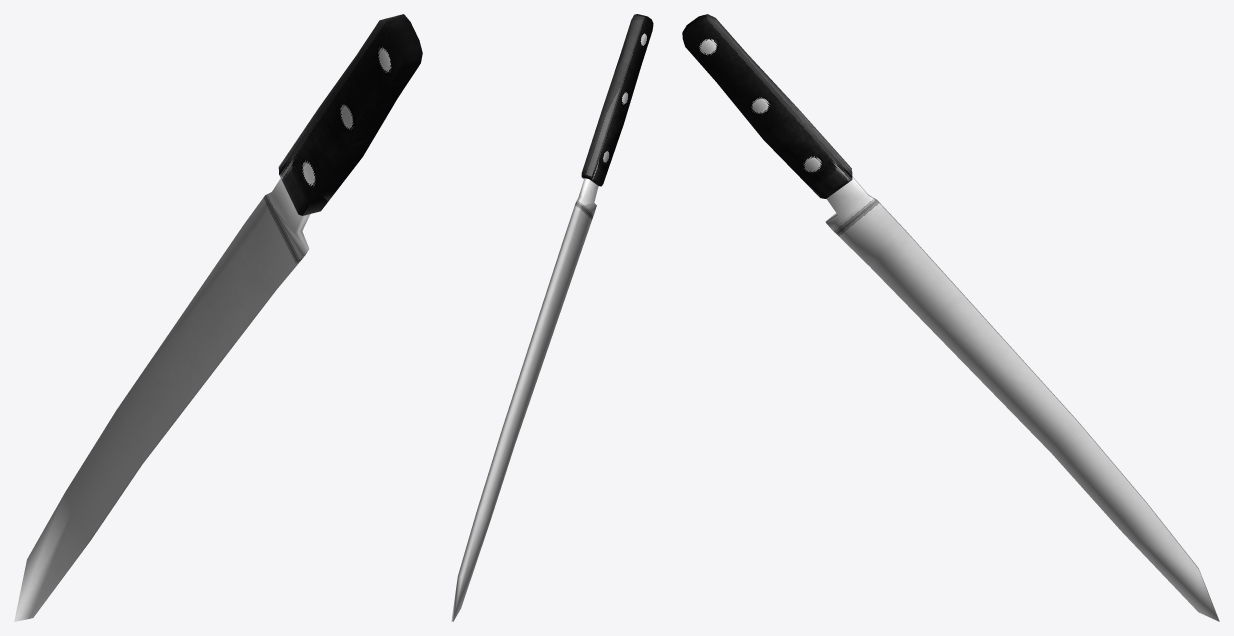
File: filletknife.glb
The picture shows the model from 3 angles, left to right: view 1: azimuth 30°, elevation 25°; view 2: azimuth 150°, elevation 25°; view 3: azimuth 270°, elevation 25°; orthographic projection. The views are drawn at different scales.
Parts seen in each view (by area): view 1: filletknife; view 2: filletknife; view 3: filletknife.
Part boxes in pixels (x1,y1,x2,y2): filletknife: (14,14,422,621); filletknife: (451,14,653,621); filletknife: (682,14,1219,621).
Size of the model in its own units: 0.0241 by 0.7311 by 0.5847.
1 material, 1 textured.
